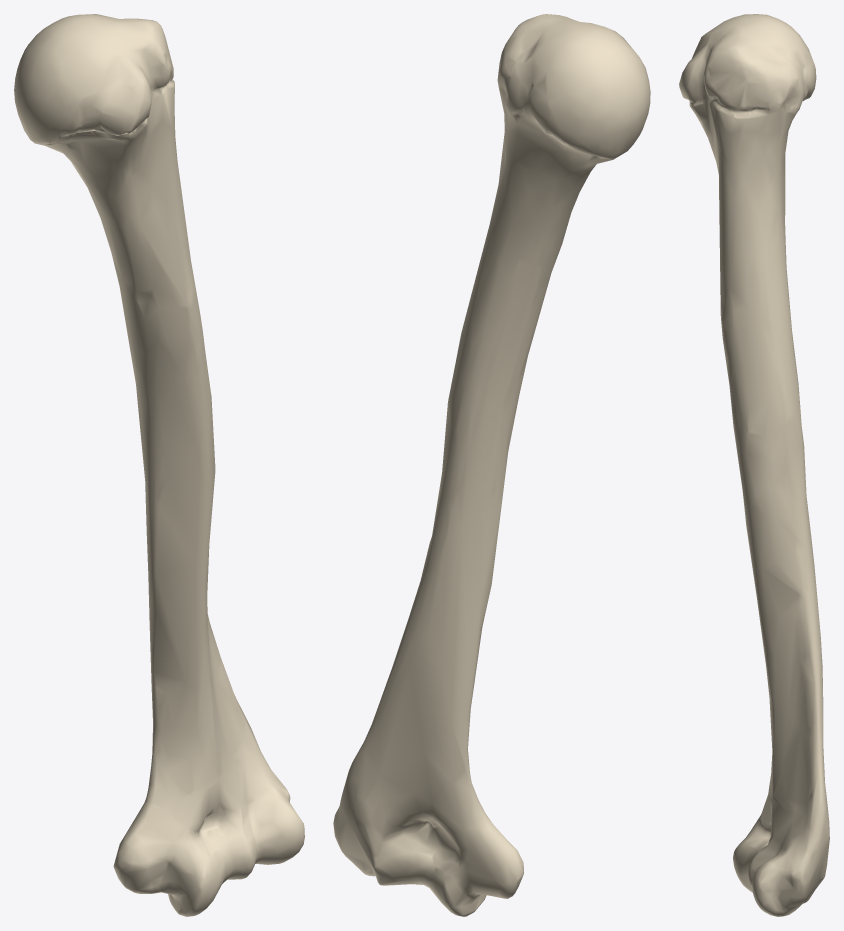
Rendered from humerus-l.glb.
3 views of the same model, side by side, from view 1: azimuth 30°, elevation 25°; view 2: azimuth 150°, elevation 25°; view 3: azimuth 270°, elevation 25° (orthographic). The views are drawn at different scales.
Parts seen in each view (by area): view 1: Humerus.l; view 2: Humerus.l; view 3: Humerus.l.
Boxes of the visible parts, left/top/right/bottom form: Humerus.l: left=14, top=14, right=304, bottom=916; Humerus.l: left=333, top=14, right=650, bottom=916; Humerus.l: left=679, top=14, right=829, bottom=916.
Size of the model in its own units: 0.1042 by 0.3176 by 0.0524.
